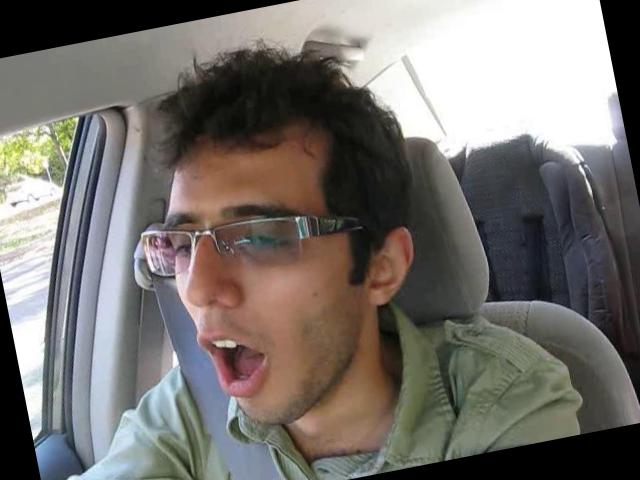eye_open: (236, 216, 302, 263), (140, 225, 192, 268)
face: (151, 158, 380, 442)
mouth_open: (200, 320, 277, 403)
